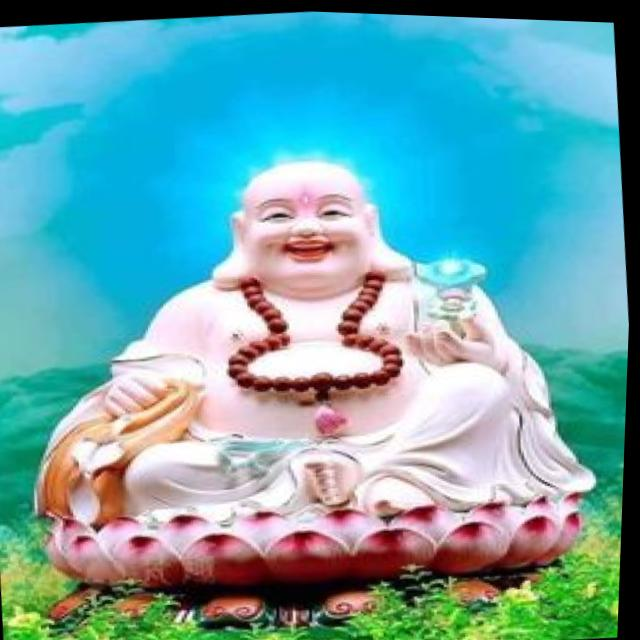Smiling Buddha: (111, 132, 526, 534)
